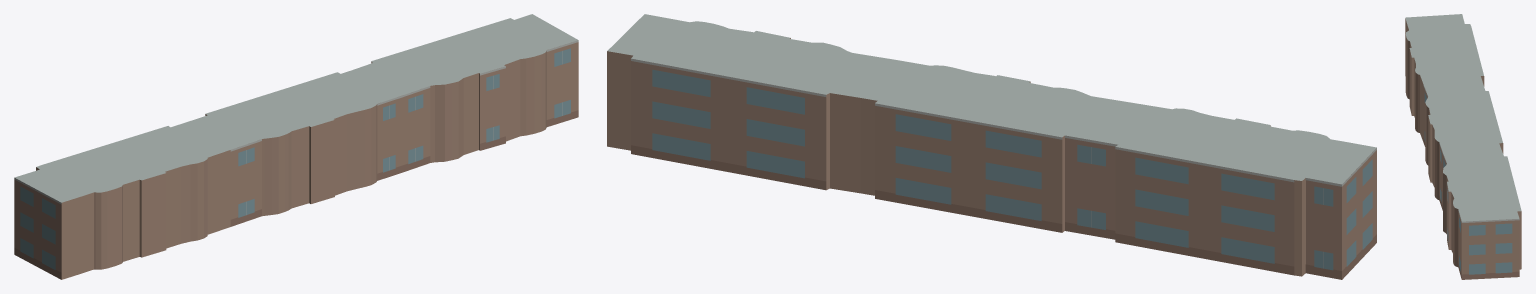
Rendered from survey-upis-32524226.glb.
3 views of the same model, side by side, from view 1: azimuth 30°, elevation 25°; view 2: azimuth 150°, elevation 25°; view 3: azimuth 270°, elevation 25° (orthographic). The views are drawn at different scales.
Parts seen in each view (by area): view 1: survey-upis-32524226.tmp; view 2: survey-upis-32524226.tmp; view 3: survey-upis-32524226.tmp.
Boxes of the visible parts, <box> form: survey-upis-32524226.tmp: <box>14,14,578,279</box>; survey-upis-32524226.tmp: <box>607,14,1376,279</box>; survey-upis-32524226.tmp: <box>1405,14,1521,279</box>.
Bounding box in the file's own units: 74.96 × 9.8 × 17.75.
